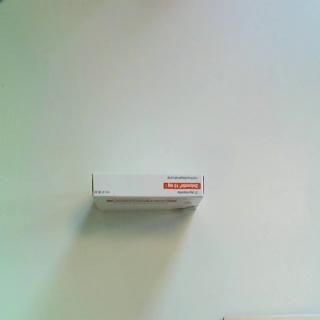dolcontin10mg: (91, 171, 207, 215)
